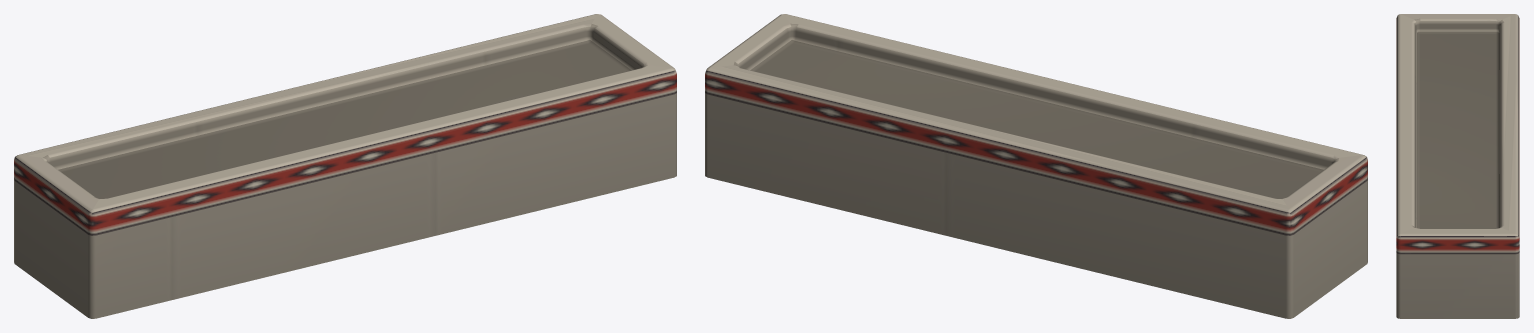
Rendered from plaza_planter.glb.
3 views of the same model, side by side, from view 1: azimuth 30°, elevation 25°; view 2: azimuth 150°, elevation 25°; view 3: azimuth 270°, elevation 25° (orthographic). The views are drawn at different scales.
Visible parts, largest first — view 1: plaza_planter.001; view 2: plaza_planter.001; view 3: plaza_planter.001.
Boxes of the visible parts, x1,y1,x2,y2 form: plaza_planter.001: [14, 14, 676, 318]; plaza_planter.001: [705, 14, 1367, 318]; plaza_planter.001: [1396, 14, 1519, 318].
Size of the model in its own units: 6 by 1.05 by 1.4.
Materials: 1 (1 with a texture image).
